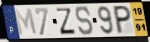7: (34, 7, 51, 37)
9: (97, 5, 114, 36)
M: (14, 7, 39, 37)
P: (113, 5, 132, 36)
S: (75, 5, 95, 37)
Z: (56, 8, 77, 36)
